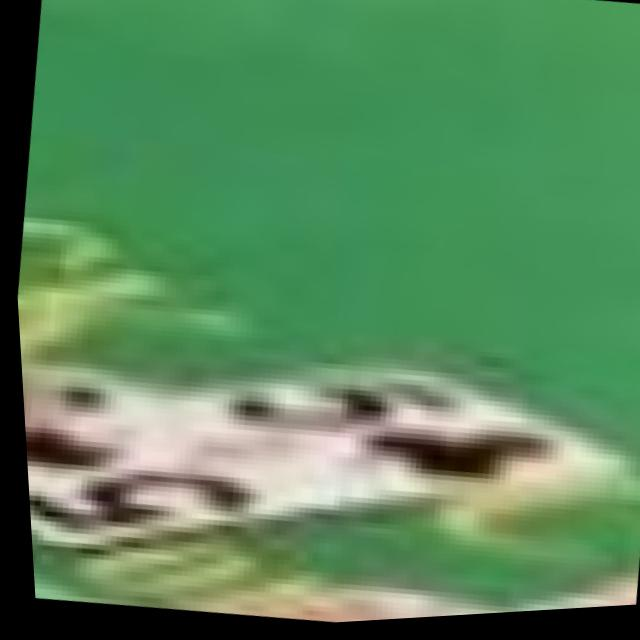Card-5: (19, 353, 619, 550)
